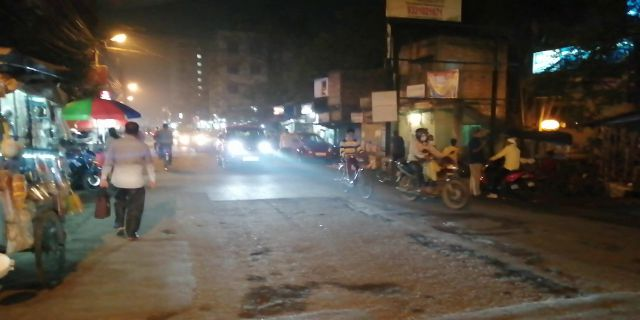Motorbike: (391, 125, 473, 210)
